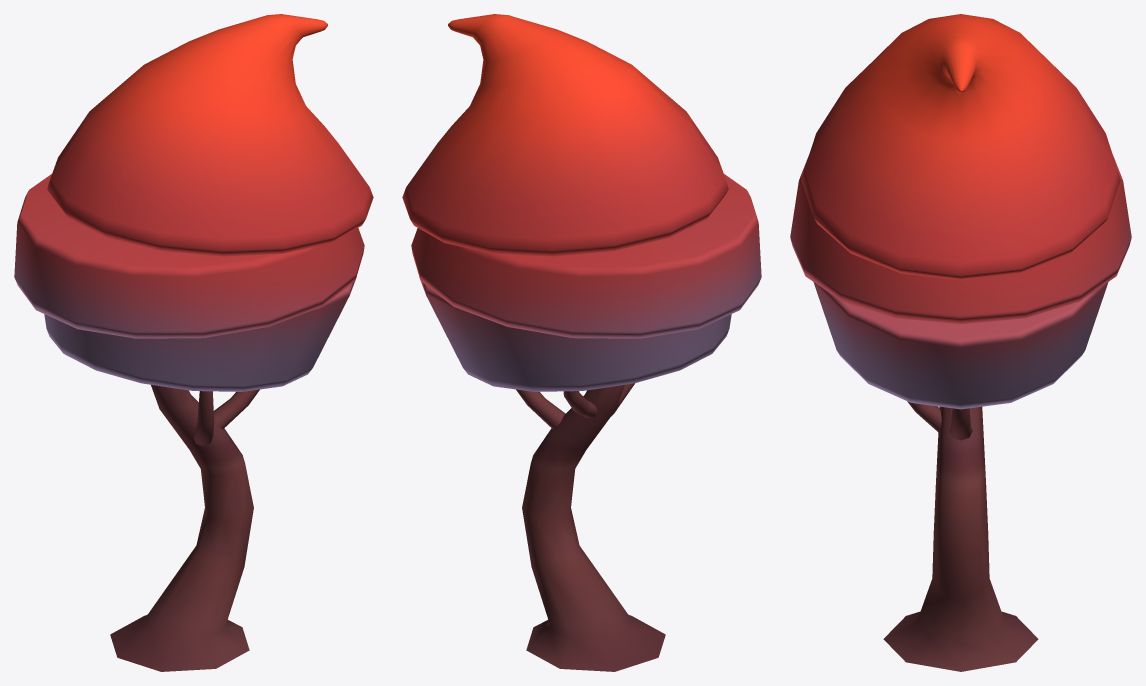
File: arboles13.fbx
3 views of the same model, side by side, from view 1: azimuth 30°, elevation 25°; view 2: azimuth 150°, elevation 25°; view 3: azimuth 270°, elevation 25° (orthographic). The views are drawn at different scales.
Visible parts, largest first — view 1: Tree.016_Base_Material_0.001; view 2: Tree.016_Base_Material_0.001; view 3: Tree.016_Base_Material_0.001.
Part boxes in pixels (left/top/right/bottom): Tree.016_Base_Material_0.001: left=14, top=14, right=373, bottom=671; Tree.016_Base_Material_0.001: left=402, top=14, right=761, bottom=671; Tree.016_Base_Material_0.001: left=790, top=14, right=1131, bottom=671.
Size of the model in its own units: 324 by 578 by 275.
